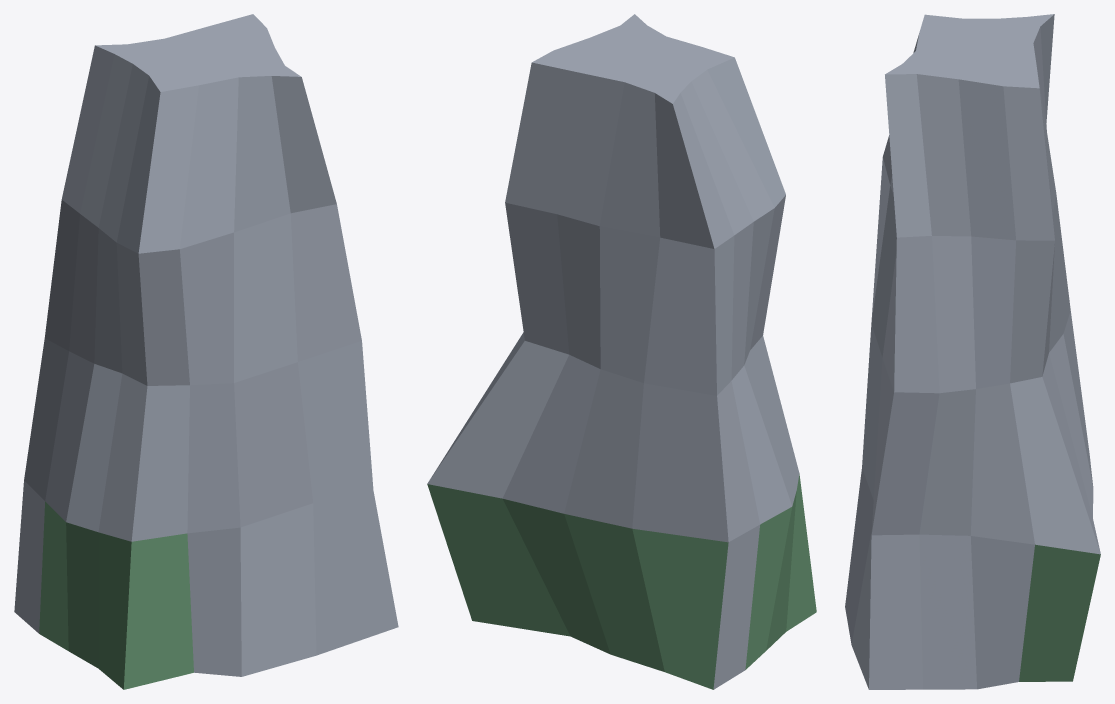
The model's file is Standing_Stone_A.glb.
The picture shows the model from 3 angles, left to right: view 1: azimuth 30°, elevation 25°; view 2: azimuth 150°, elevation 25°; view 3: azimuth 270°, elevation 25°; orthographic projection. The views are drawn at different scales.
Parts seen in each view (by area): view 1: Standing_Stone_A; view 2: Standing_Stone_A; view 3: Standing_Stone_A.
Boxes of the visible parts, x1,y1,x2,y2 form: Standing_Stone_A: [14, 14, 398, 689]; Standing_Stone_A: [427, 14, 816, 689]; Standing_Stone_A: [845, 14, 1100, 689].
Size of the model in its own units: 1.45 by 2.6 by 1.05.
